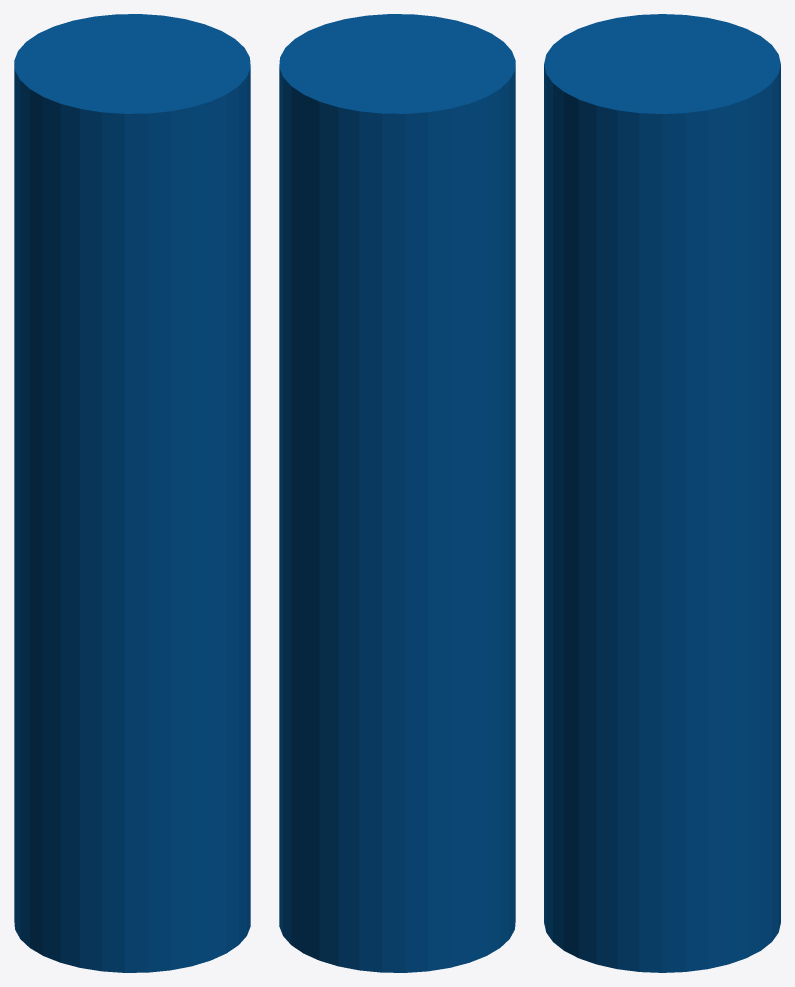
The model's file is round_pillar.glb.
3 views of the same model, side by side, from view 1: azimuth 30°, elevation 25°; view 2: azimuth 150°, elevation 25°; view 3: azimuth 270°, elevation 25° (orthographic).
Visible parts, largest first — view 1: Cylinder; view 2: Cylinder; view 3: Cylinder.
Boxes of the visible parts, x1,y1,x2,y2 form: Cylinder: (14,14,250,972); Cylinder: (279,14,515,972); Cylinder: (544,14,780,972).
Bounding box in the file's own units: 1 × 4 × 1.
